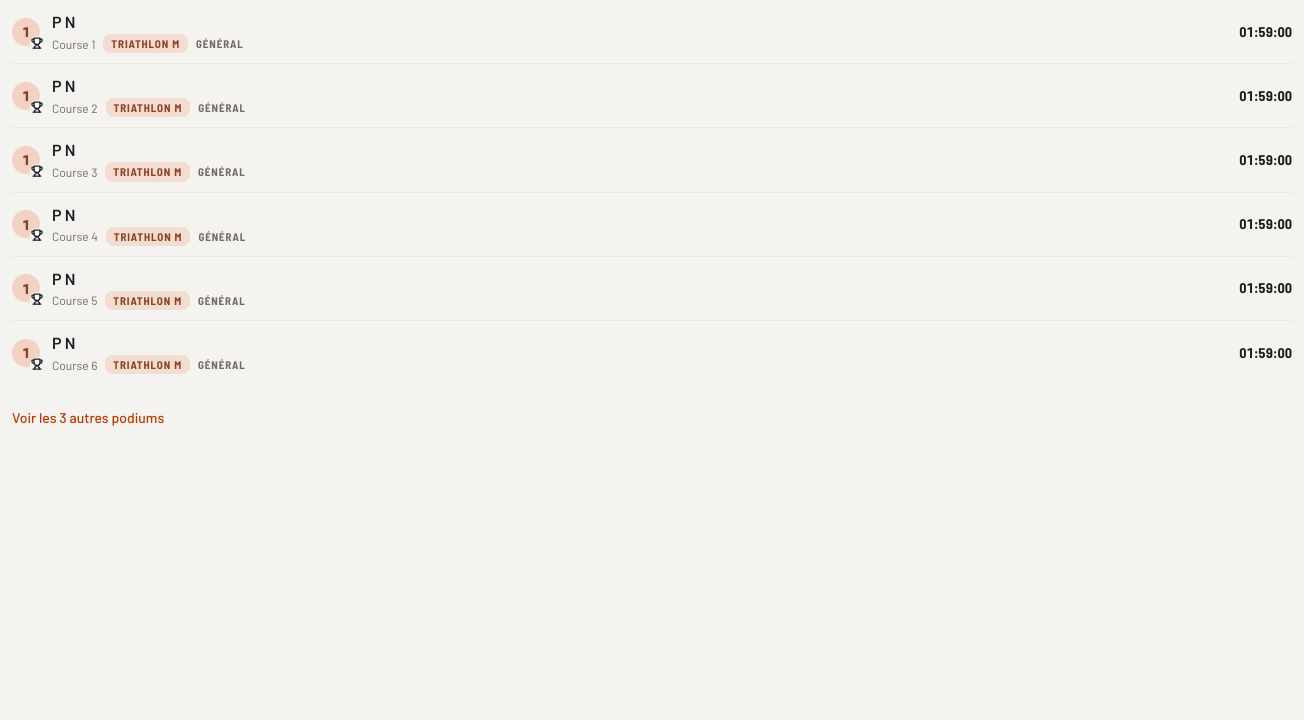
Test: PodiumsList — extension de la liste (PROF-3, #488) › réduit la liste au second clic, focus préservé, et l'annonce suit
Click the button "Voir les 3 autres podiums". click: (88, 418)
box: [12,396,164,440]
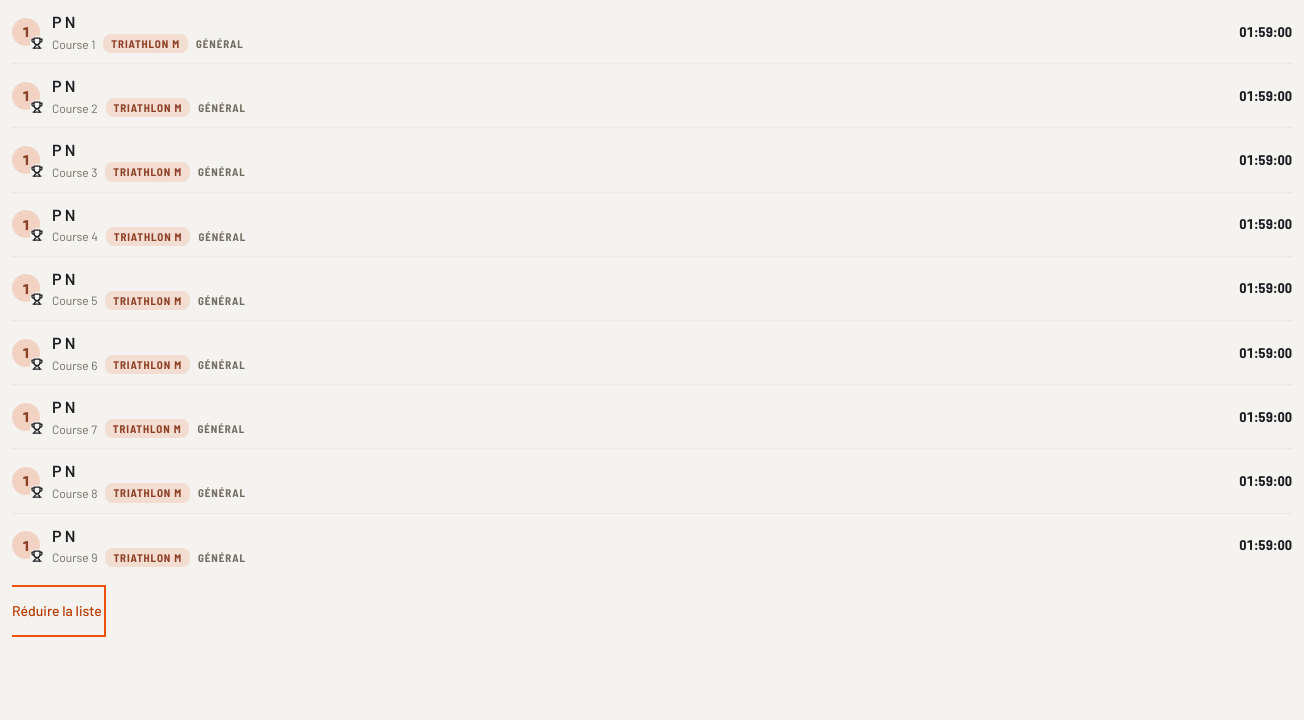
Click the button "Réduire la liste". click: (57, 611)
box: [12,589,102,633]
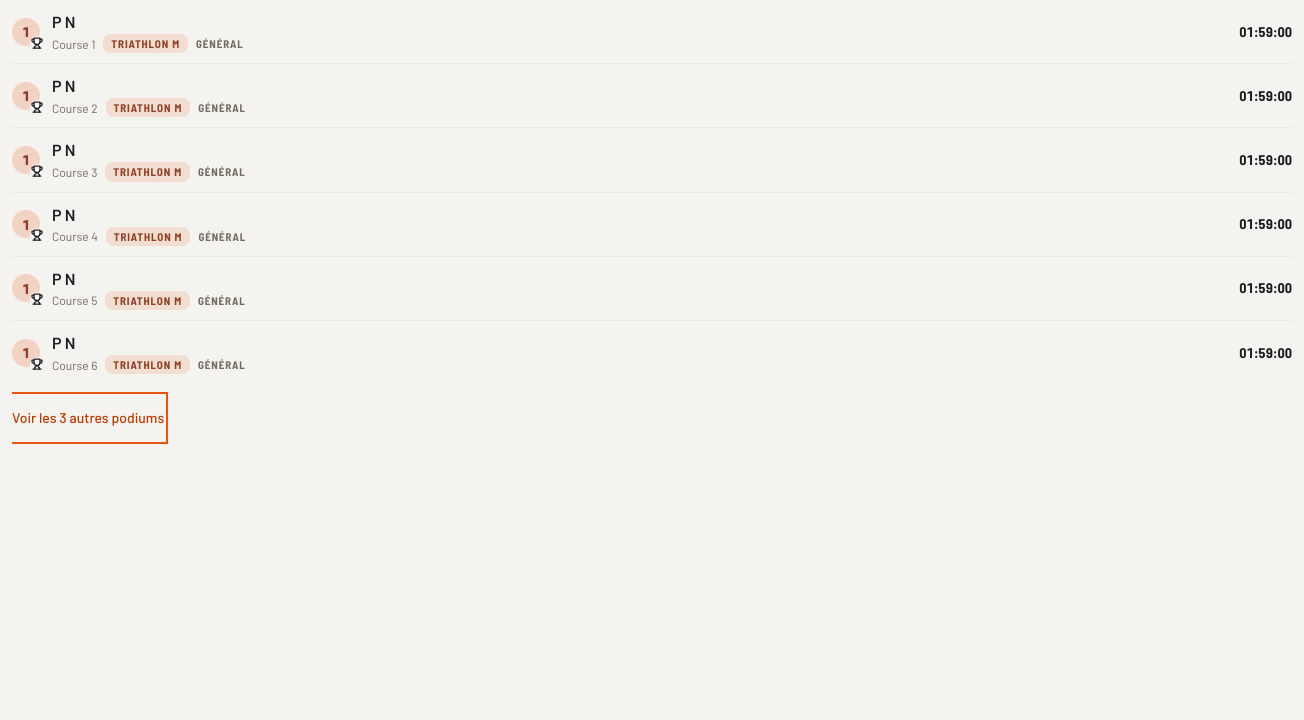
Expected: the number of list items is 6, [12,0,1292,64]; [12,64,1292,128]; [12,128,1292,193]; [12,193,1292,257]; [12,257,1292,321]; [12,321,1292,384]
